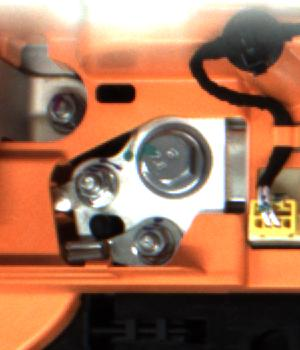nut_b: (135, 126, 200, 199)
screw_s: (121, 211, 180, 264), (72, 161, 125, 206), (40, 86, 86, 132)
